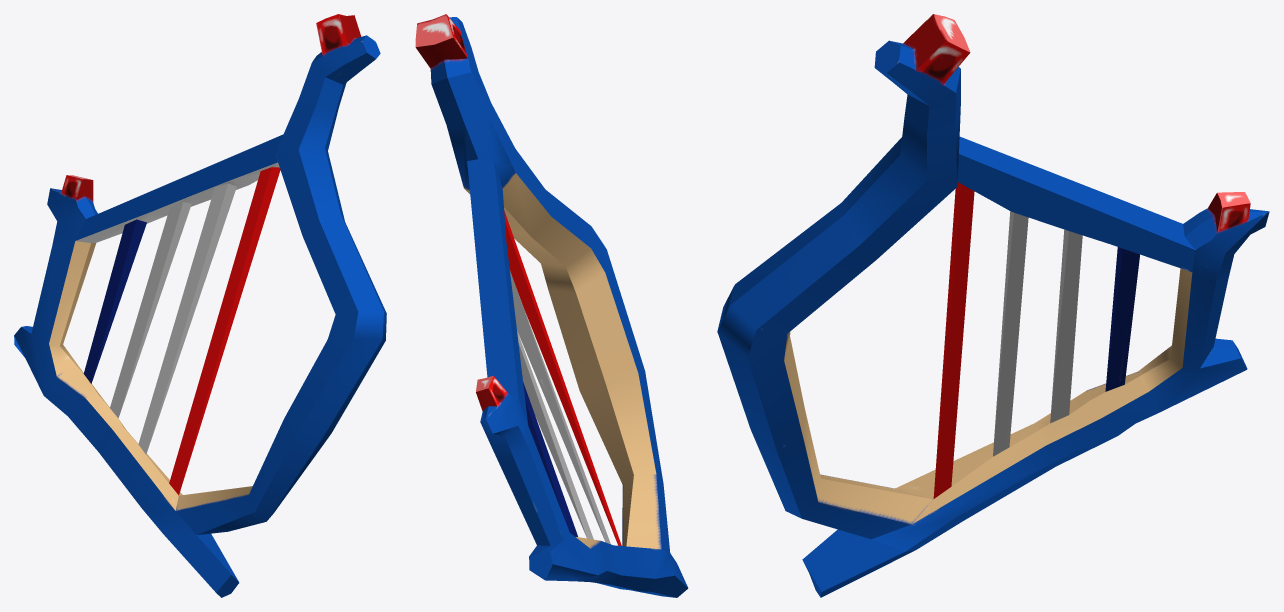
Rendered from Arpa2_000015.obj.
3 views of the same model, side by side, from view 1: azimuth 30°, elevation 25°; view 2: azimuth 150°, elevation 25°; view 3: azimuth 270°, elevation 25° (orthographic). The views are drawn at different scales.
Parts seen in each view (by area): view 1: a2_Arpa_1:pCube7; view 2: a2_Arpa_1:pCube7; view 3: a2_Arpa_1:pCube7.
Part boxes in pixels (left/top/right/bottom): a2_Arpa_1:pCube7: left=14, top=14, right=386, bottom=597; a2_Arpa_1:pCube7: left=415, top=14, right=688, bottom=597; a2_Arpa_1:pCube7: left=717, top=14, right=1269, bottom=597.
Bounding box in the file's own units: 4.04 × 8.26 × 6.07.
